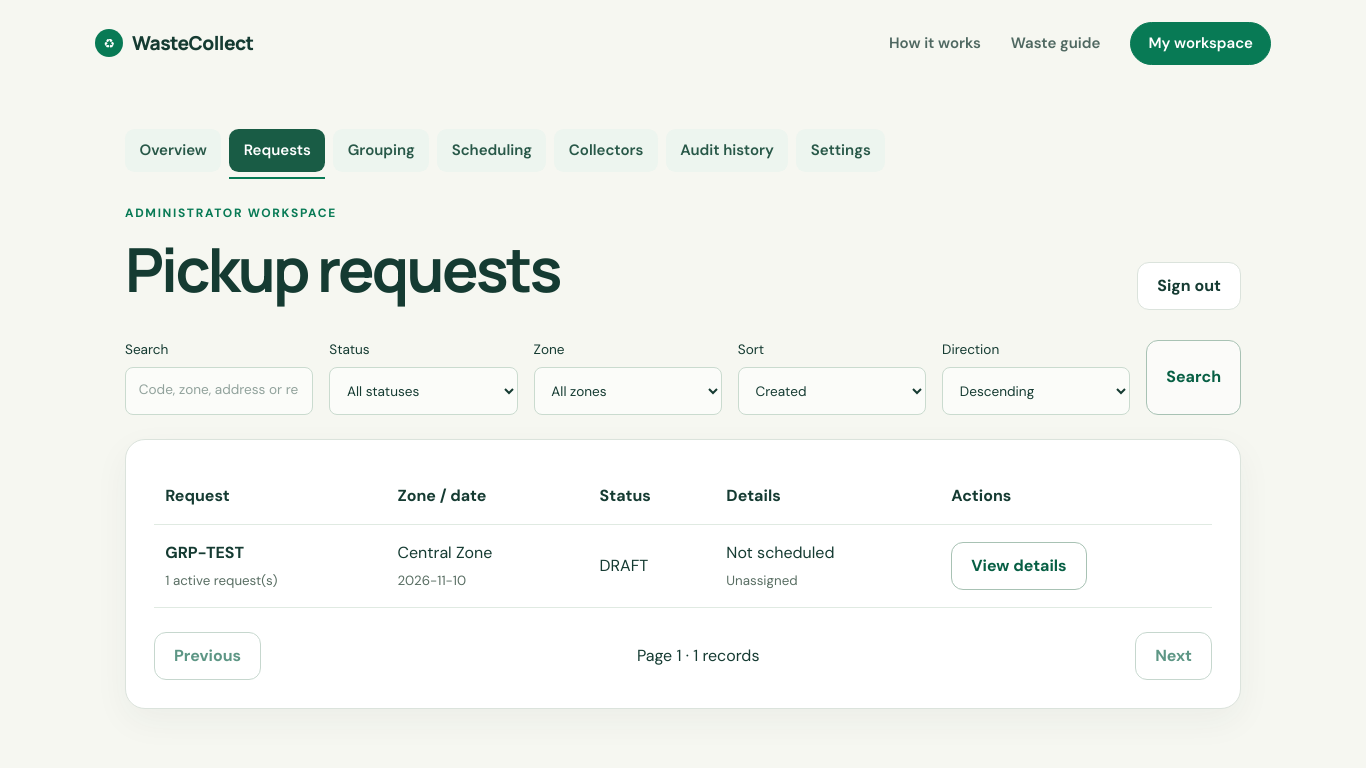
it: an administrator can inspect a request and its status history
Click the button "View details": (1019, 566) [951,542,1087,590]
(page scrolled)
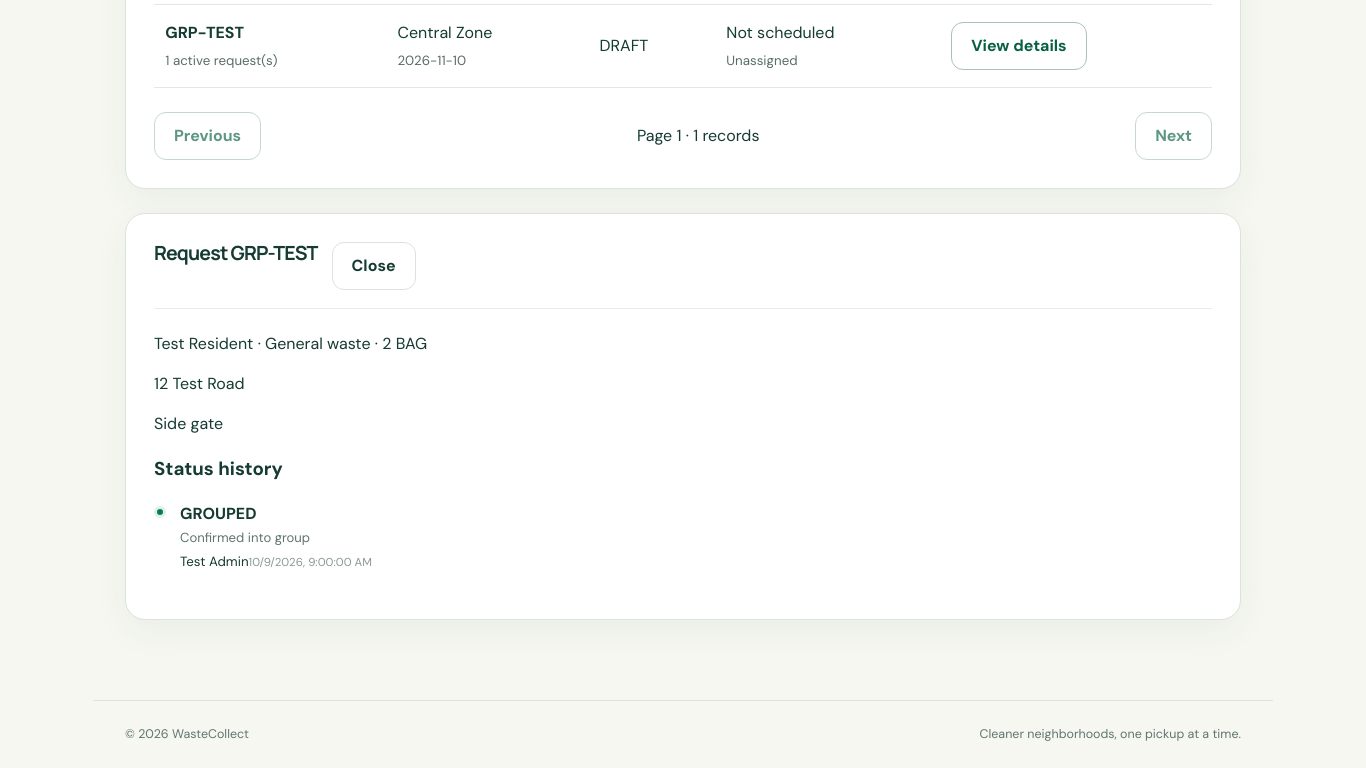
Expected: the text "12 Test Road" is shown, [154,373,244,394]
Expected: the text "Confirmed into group" is shown, [180,529,310,546]
Expected: the text "Side gate" is shown, [154,413,223,434]
